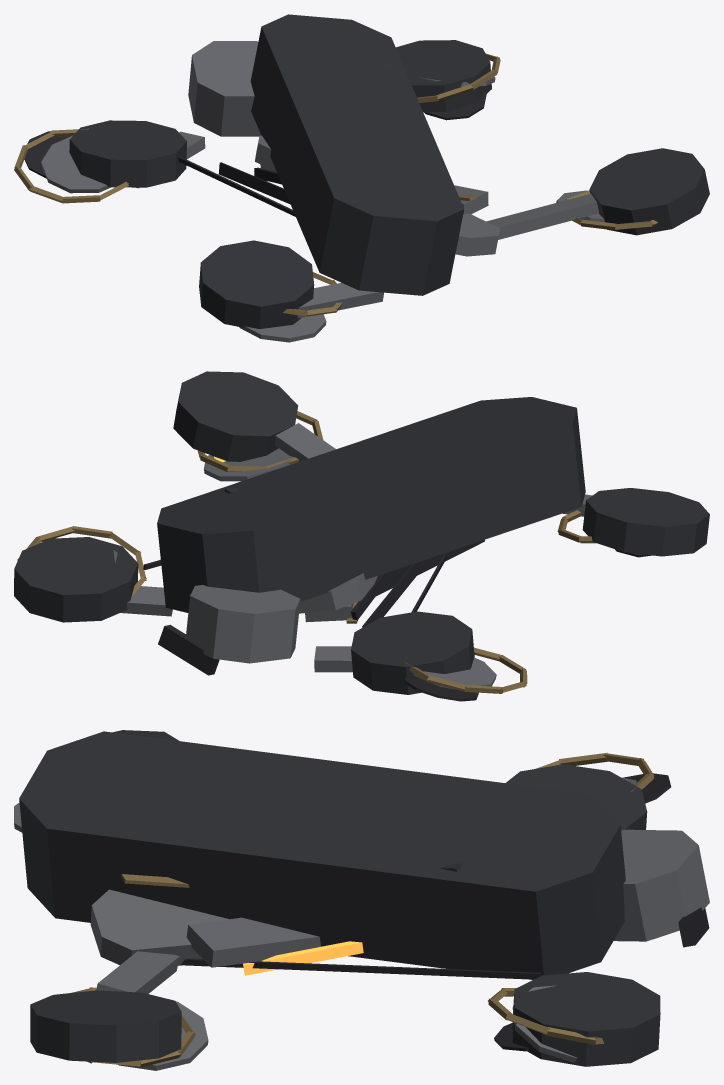
The model's file is Wreck_Aegis_Skylift.fbx.
3 views of the same model, one above another, from view 1: azimuth 30°, elevation 25°; view 2: azimuth 150°, elevation 25°; view 3: azimuth 270°, elevation 25° (orthographic). The views are drawn at different scales.
Visible parts, largest first — view 1: Wreck_Aegis_Skylift; view 2: Wreck_Aegis_Skylift; view 3: Wreck_Aegis_Skylift.
Part boxes in pixels (x1,y1,x2,y2): Wreck_Aegis_Skylift: (14, 14, 709, 342); Wreck_Aegis_Skylift: (14, 371, 709, 701); Wreck_Aegis_Skylift: (14, 730, 709, 1070).
Size of the model in its own units: 2.36 by 0.4961 by 2.17.
